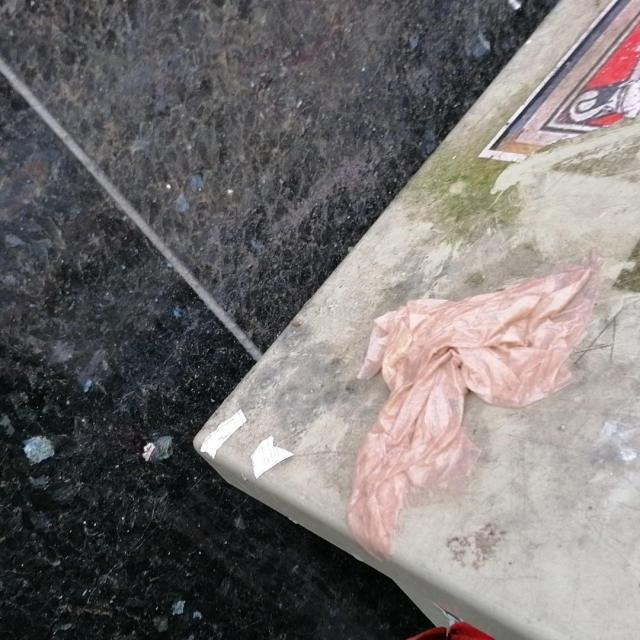Paper: (344, 246, 604, 564)
